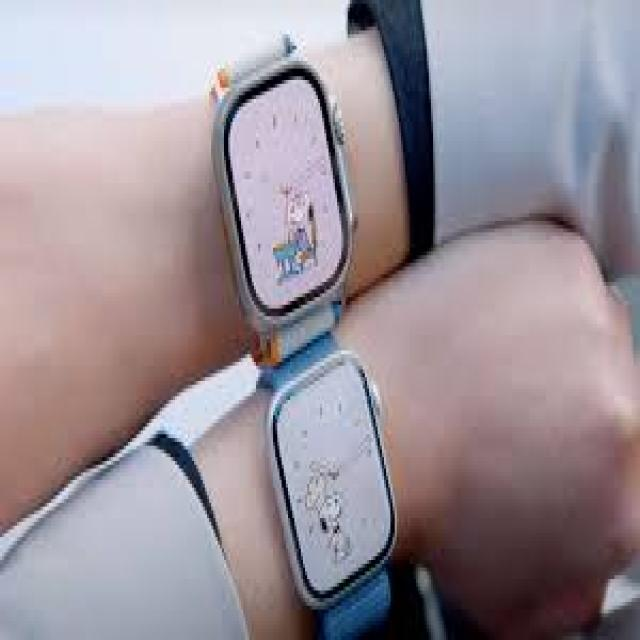objects: (210, 41, 360, 362), (268, 343, 402, 640)
